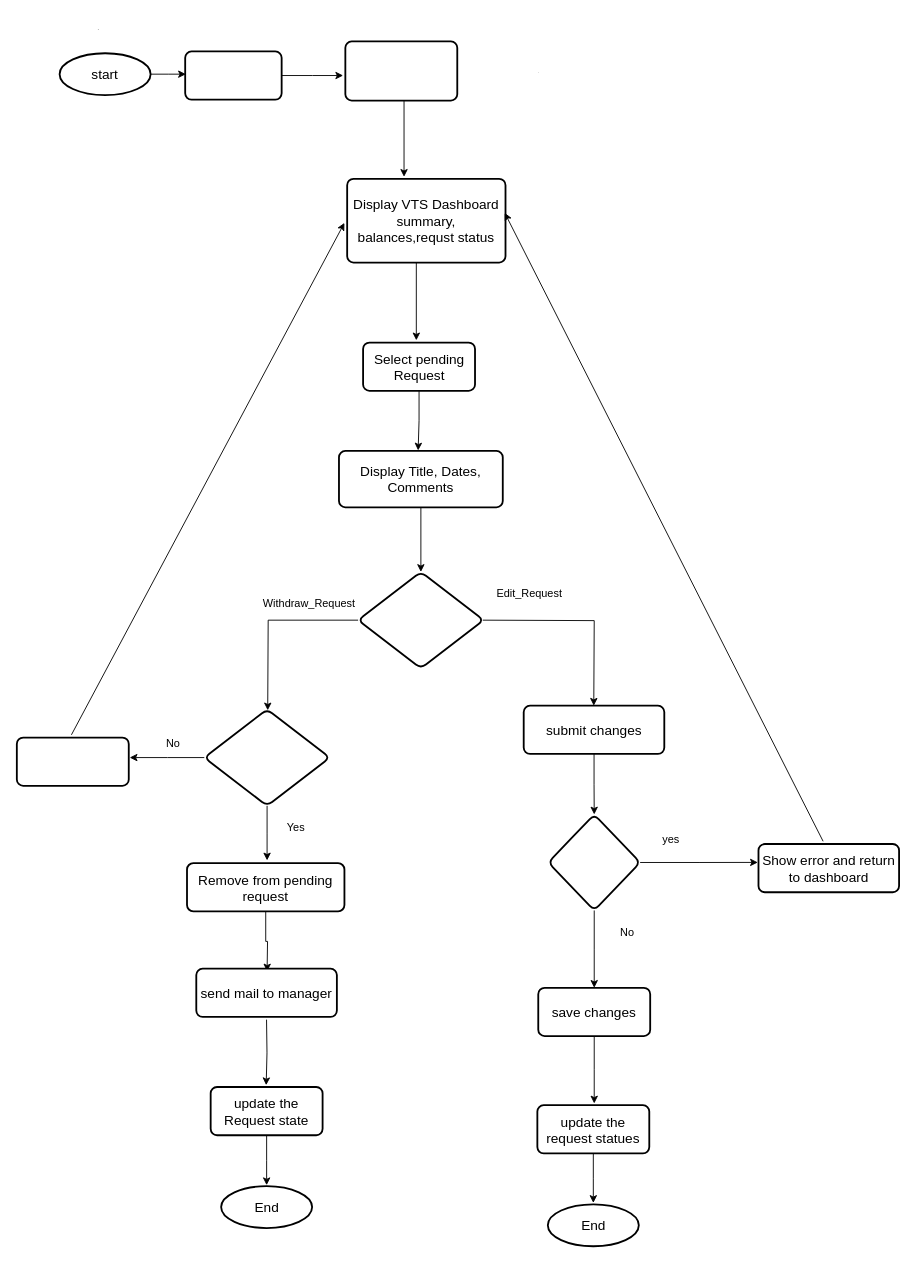
The diagram is 915 pixels wide and 1262 high, and some of its shapes have lost their labels. Here are the shapes that lost their labels. From the top down, the centre of each, then its label:
At pixel 233 75: "navigate to vts HomePage".
At pixel 401 70: "system uses employee credntials".
At pixel 420 620: "Action".
At pixel 72 761: "Return to the dashboard".
At pixel 266 757: "confirm Request".
At pixel 594 862: "Validation error".
